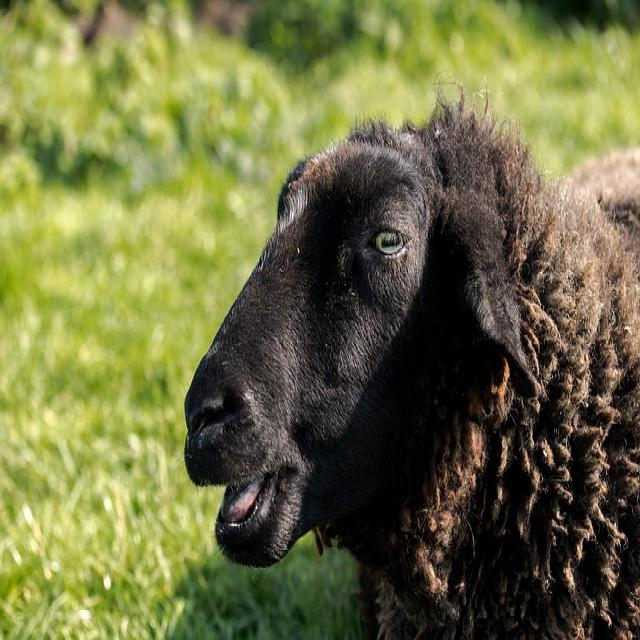goat: (184, 98, 640, 640)
